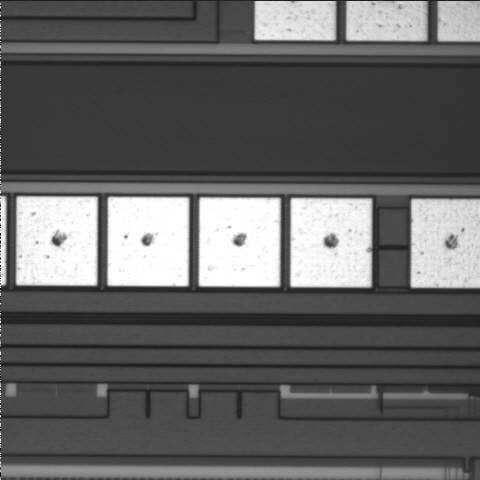pad: (16, 196, 98, 286), (107, 197, 189, 286), (199, 198, 281, 287), (290, 198, 372, 287)
